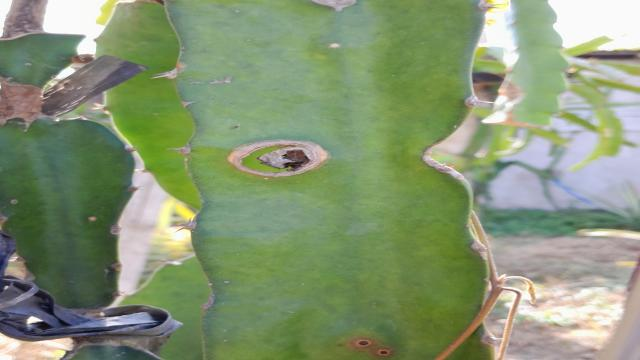stemcanker: (347, 332, 396, 360)
